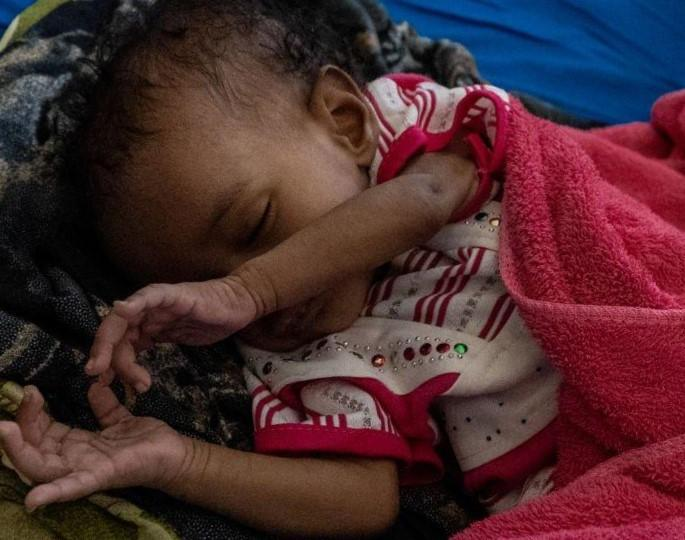Stunting: (26, 20, 383, 370)
